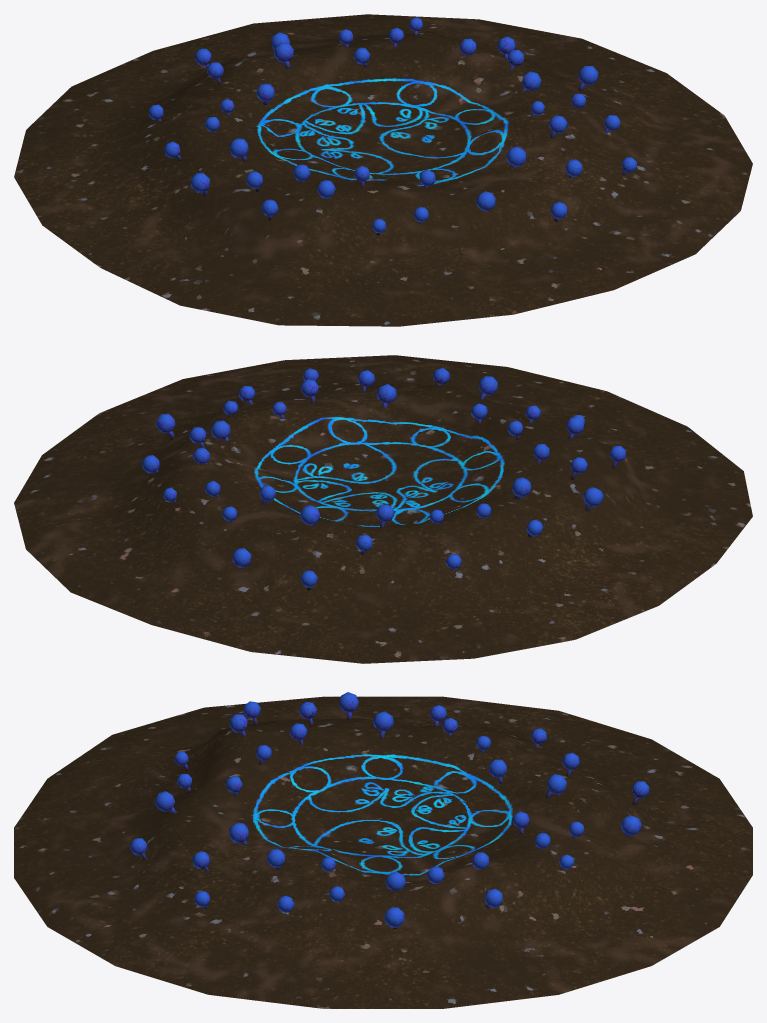
File: spawner.fbx
The picture shows the model from 3 angles, top to bottom: view 1: azimuth 30°, elevation 25°; view 2: azimuth 150°, elevation 25°; view 3: azimuth 270°, elevation 25°; orthographic projection. The views are drawn at different scales.
Parts seen in each view (by area): view 1: spawner; view 2: spawner; view 3: spawner.
Part boxes in pixels (x1,y1,x2,y2): spawner: [14, 14, 752, 326]; spawner: [14, 355, 752, 663]; spawner: [14, 692, 752, 1008].
Bounding box in the file's own units: 676 × 74.85 × 676.
